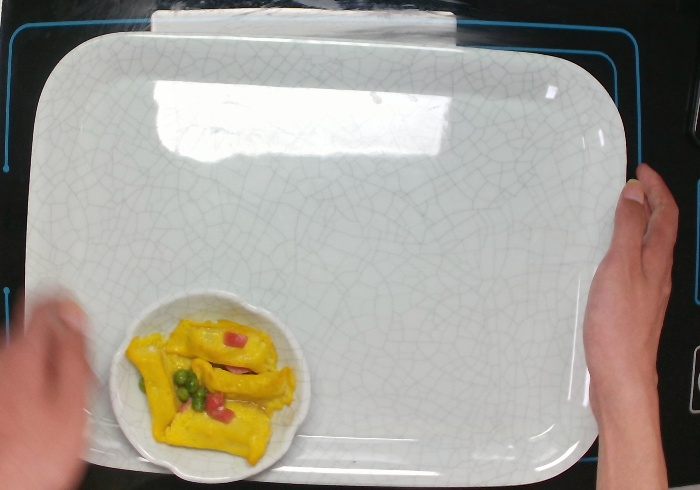JYsf-Ao_Yuan_Wan: (106, 286, 312, 483)
